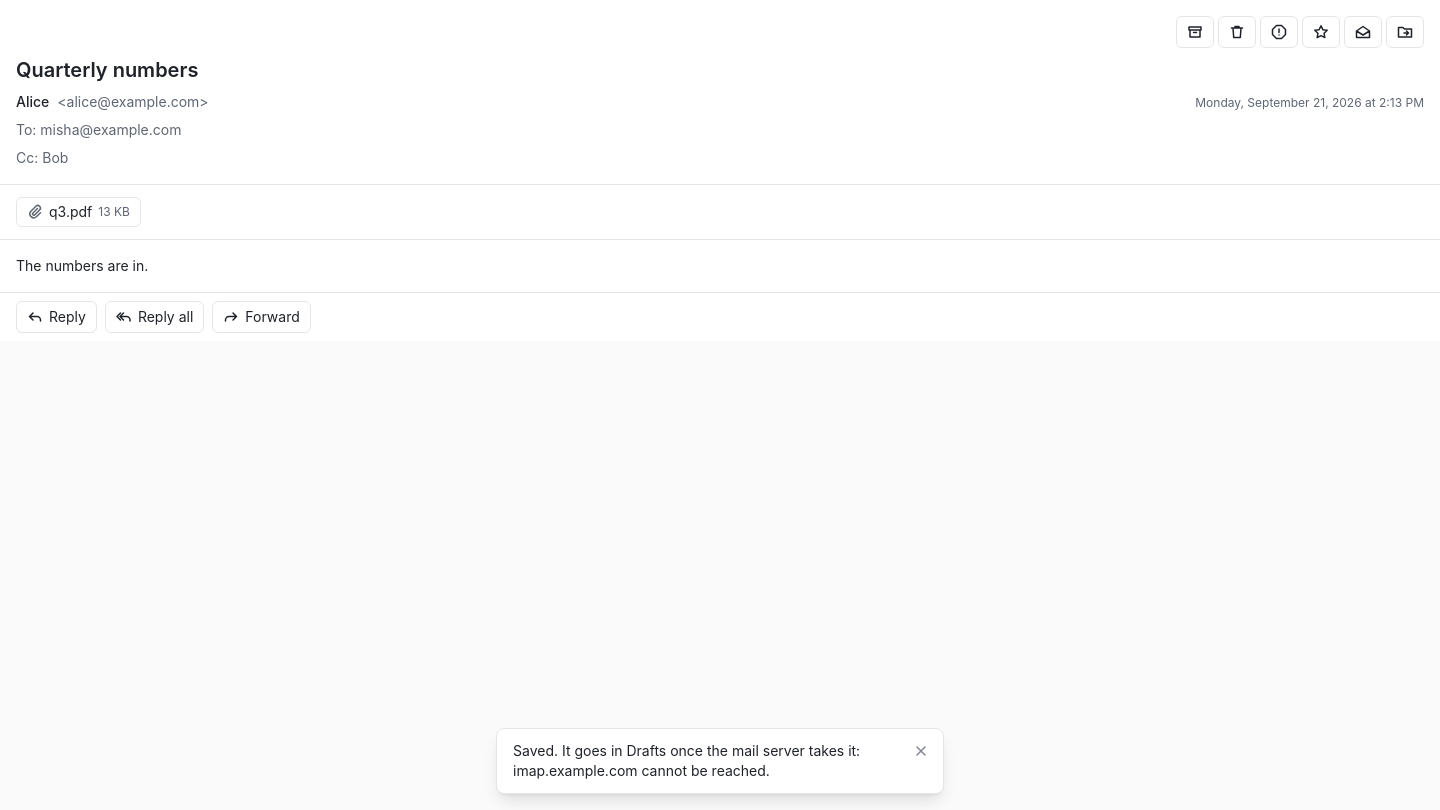
Scenario: drafts › asks before closing where there is nowhere to keep it
Click the button "Reply" at [56, 317], box [16,301,97,333]
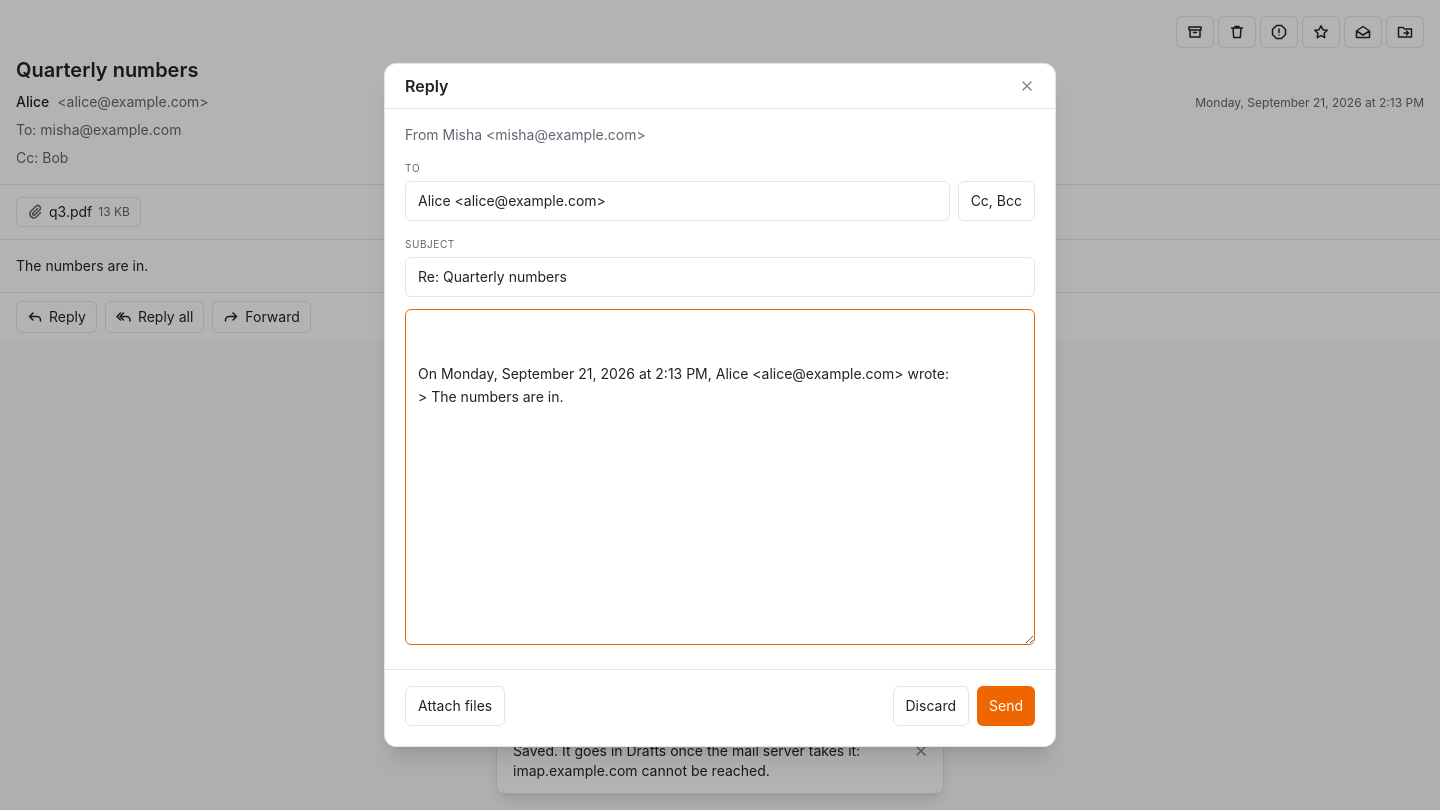
Replace the text in the text box named "Message" with "Thanks!" at [720, 477], box [405,309,1035,645]
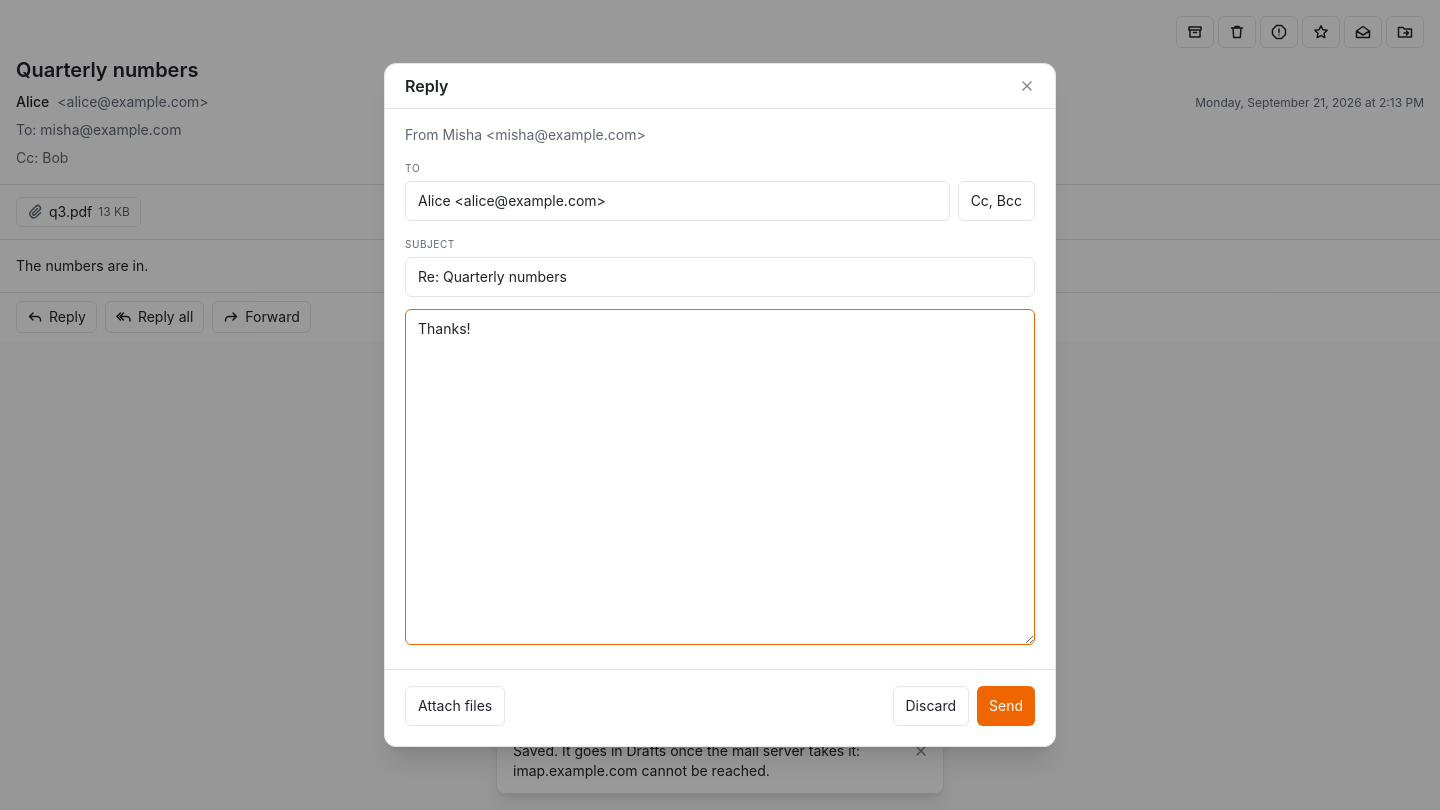
Click the button named "Close" at [1027, 86], box [1015,74,1039,98]
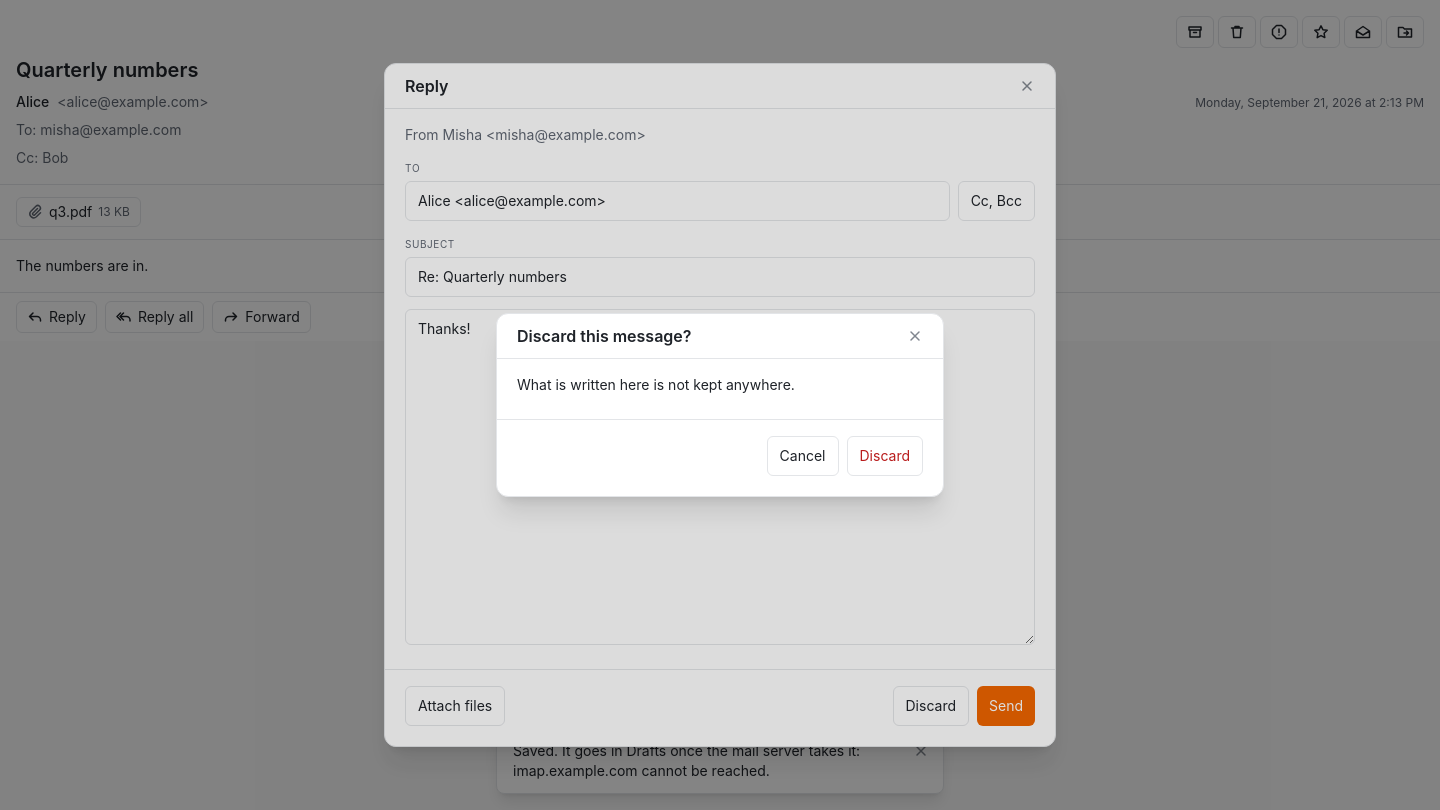
Expected: the heading "Discard this message?" is shown, [517,324,692,348]
